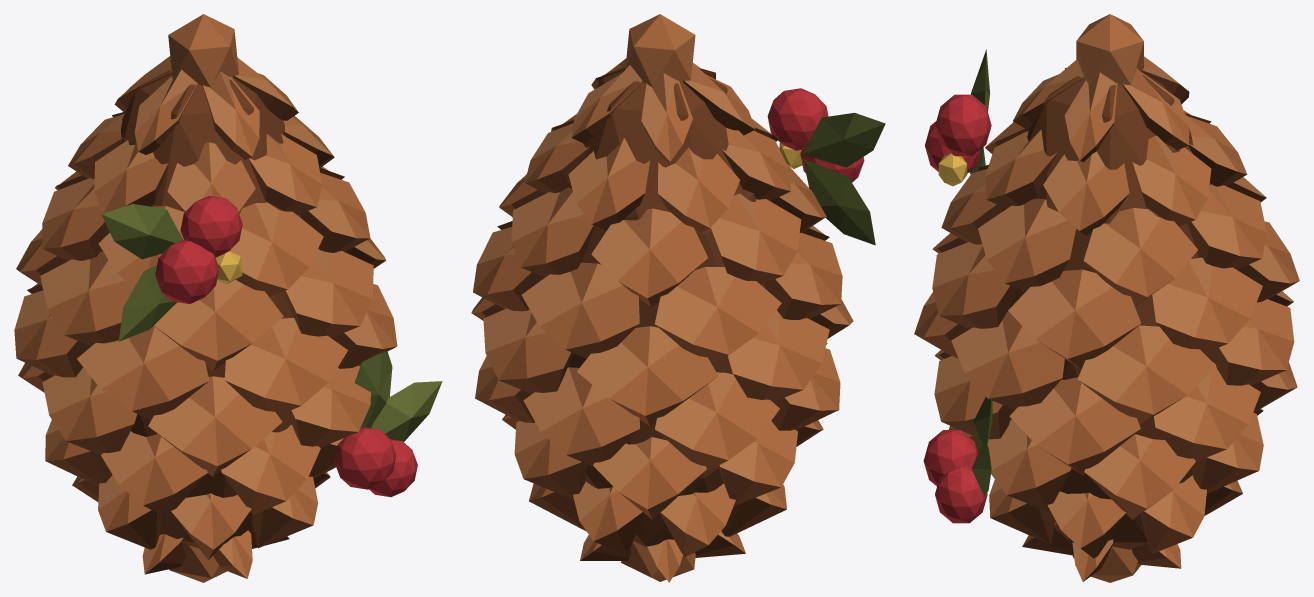
Rendered from 06 Pine Cone.glb.
The picture shows the model from 3 angles, left to right: view 1: azimuth 30°, elevation 25°; view 2: azimuth 150°, elevation 25°; view 3: azimuth 270°, elevation 25°; orthographic projection.
Visible parts, largest first — view 1: Faceted olive leaf, Dark interior pinecone core, Lower berry A, Woody scale tier 05 segment 07, Woody scale tier 05 segment 01, Woody scale tier 04 segment 07, Woody scale tier 06 segment 07, Woody scale tier 06 segment 06, Woody scale tier 06 segment 01, Woody scale tier 07 segment 01, Woody scale tier 03 segment 07, Woody scale tier 04 segment 06 (+27 smaller); view 2: Dark interior pinecone core, Faceted olive leaf, Woody scale tier 05 segment 05, Woody scale tier 06 segment 05, Woody scale tier 06 segment 04, Woody scale tier 07 segment 05, Woody scale tier 04 segment 05, Woody scale tier 04 segment 04, Woody scale tier 05 segment 06, Woody scale tier 07 segment 06, Woody scale tier 07 segment 04, Woody scale tier 05 segment 04 (+26 smaller); view 3: Dark interior pinecone core, Woody scale tier 06 segment 02, Woody scale tier 05 segment 03, Woody scale tier 06 segment 03, Woody scale tier 07 segment 03, Woody scale tier 04 segment 02, Woody scale tier 05 segment 02, Woody scale tier 07 segment 02, Woody scale tier 04 segment 03, Lower berry A, Woody scale tier 06 segment 01, Woody scale tier 03 segment 03 (+27 smaller).
Part boxes in pixels (<box>): Faceted olive leaf: <box>101,195,242,341</box>; Dark interior pinecone core: <box>120,70,300,548</box>; Lower berry A: <box>334,351,442,497</box>; Woody scale tier 05 segment 07: <box>77,326,209,420</box>; Woody scale tier 05 segment 01: <box>224,318,347,415</box>; Woody scale tier 04 segment 07: <box>148,376,282,476</box>; Woody scale tier 06 segment 07: <box>154,279,283,371</box>; Woody scale tier 06 segment 06: <box>40,251,133,345</box>; Woody scale tier 06 segment 01: <box>283,248,373,337</box>; Woody scale tier 07 segment 01: <box>229,202,323,297</box>; Woody scale tier 03 segment 07: <box>101,431,207,517</box>; Woody scale tier 04 segment 06: <box>42,367,137,454</box>; Dark interior pinecone core: <box>567,66,765,548</box>; Faceted olive leaf: <box>767,88,885,245</box>; Woody scale tier 05 segment 05: <box>577,326,718,426</box>; Woody scale tier 06 segment 05: <box>654,267,781,363</box>; Woody scale tier 06 segment 04: <box>521,262,639,358</box>; Woody scale tier 07 segment 05: <box>591,208,707,306</box>; Woody scale tier 04 segment 05: <box>655,372,779,472</box>; Woody scale tier 04 segment 04: <box>523,367,639,466</box>; Woody scale tier 05 segment 06: <box>728,310,829,401</box>; Woody scale tier 07 segment 06: <box>711,193,801,284</box>; Woody scale tier 07 segment 04: <box>511,187,595,277</box>; Woody scale tier 05 segment 04: <box>483,308,572,393</box>; Dark interior pinecone core: <box>1002,74,1215,549</box>; Woody scale tier 06 segment 02: <box>1008,269,1141,369</box>; Woody scale tier 05 segment 03: <box>1077,325,1216,425</box>; Woody scale tier 06 segment 03: <box>1152,257,1262,353</box>; Woody scale tier 07 segment 03: <box>1083,207,1197,305</box>; Woody scale tier 04 segment 02: <box>1009,377,1140,475</box>; Woody scale tier 05 segment 02: <box>951,311,1064,409</box>; Woody scale tier 07 segment 02: <box>978,198,1076,291</box>; Woody scale tier 04 segment 03: <box>1154,362,1260,461</box>; Lower berry A: <box>923,397,992,523</box>; Woody scale tier 06 segment 01: <box>932,242,1016,328</box>; Woody scale tier 03 segment 03: <box>1084,434,1195,519</box>.
Bounding box in the file's own units: 3.8 × 5.99 × 3.68.
